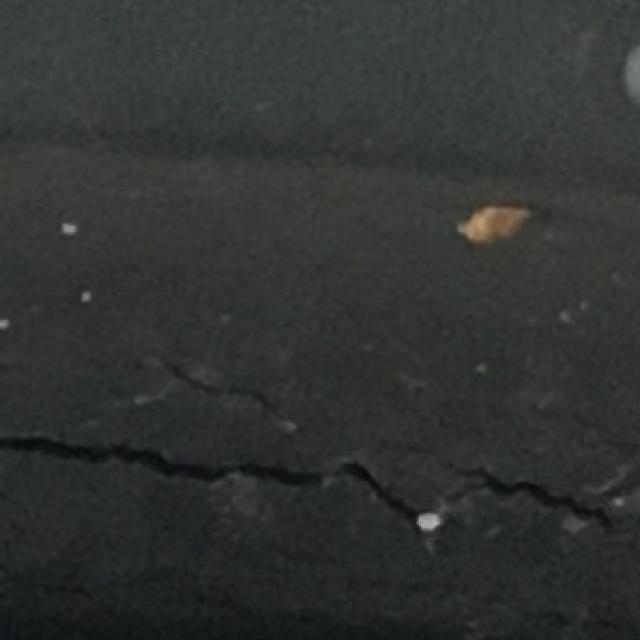Cracks: (0, 334, 640, 570)
Non-defective: (0, 0, 417, 320)
